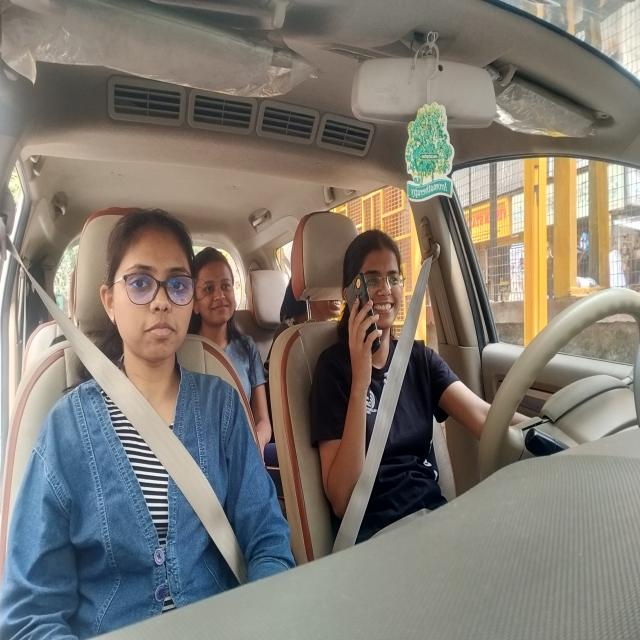mobile: (348, 264, 385, 367)
person: (101, 204, 202, 386), (340, 224, 420, 354), (193, 236, 244, 344)
